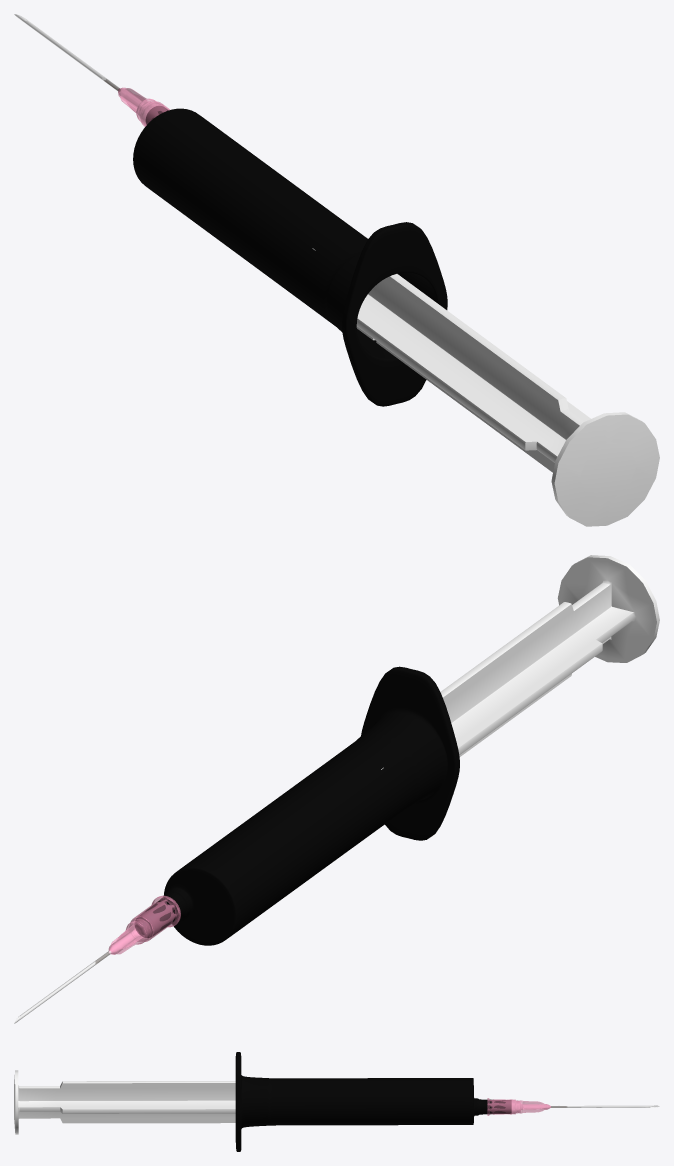
The model's file is jumazhen.FBX.
The picture shows the model from 3 angles, top to bottom: view 1: azimuth 30°, elevation 25°; view 2: azimuth 150°, elevation 25°; view 3: azimuth 270°, elevation 25°; orthographic projection. The views are drawn at different scales.
Visible parts, largest first — view 1: injector; view 2: injector; view 3: injector.
Part boxes in pixels (x1=…): injector: x1=14, y1=14, x2=659, y2=526; injector: x1=14, y1=555, x2=659, y2=1023; injector: x1=14, y1=1052, x2=659, y2=1151.
Size of the model in its own units: 1.26 by 2.03 by 12.76.
